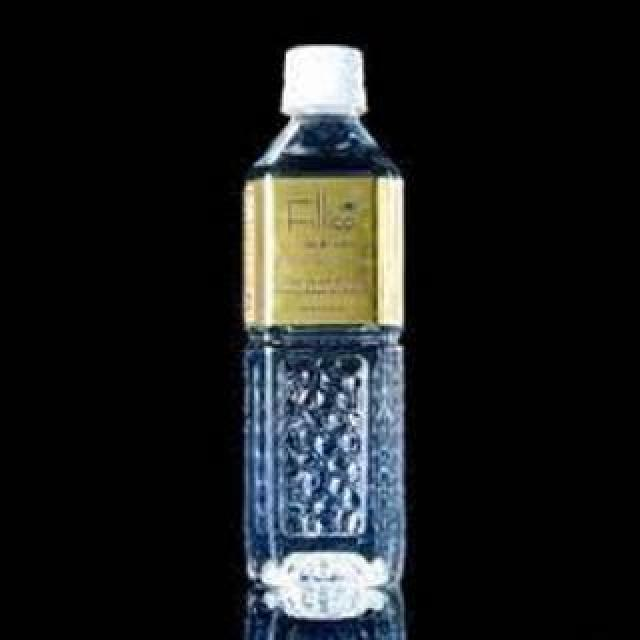Pet_Bottle: (236, 41, 428, 623)
